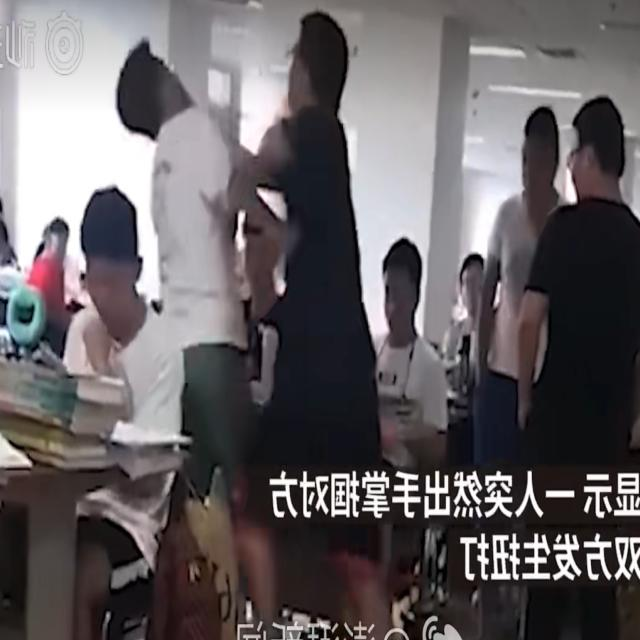fight: (118, 11, 355, 233)
nofight: (508, 89, 640, 563), (68, 205, 184, 628), (488, 108, 560, 478), (362, 218, 446, 430)
